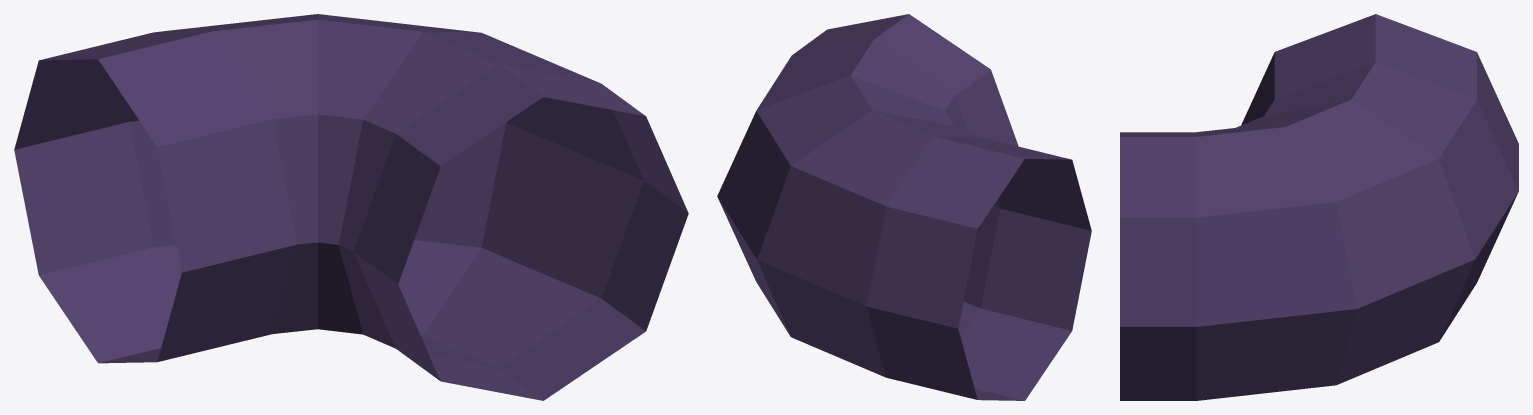
File: PipeCorner.fbx
3 renders of one model, left to right at view 1: azimuth 30°, elevation 25°; view 2: azimuth 150°, elevation 25°; view 3: azimuth 270°, elevation 25°, orthographic. The views are drawn at different scales.
Visible parts, largest first — view 1: Cylinder; view 2: Cylinder; view 3: Cylinder.
Boxes of the visible parts, x1,y1,x2,y2 form: Cylinder: [14, 14, 688, 400]; Cylinder: [717, 14, 1091, 400]; Cylinder: [1120, 14, 1518, 400].
Size of the model in its own units: 454 by 300 by 418.
